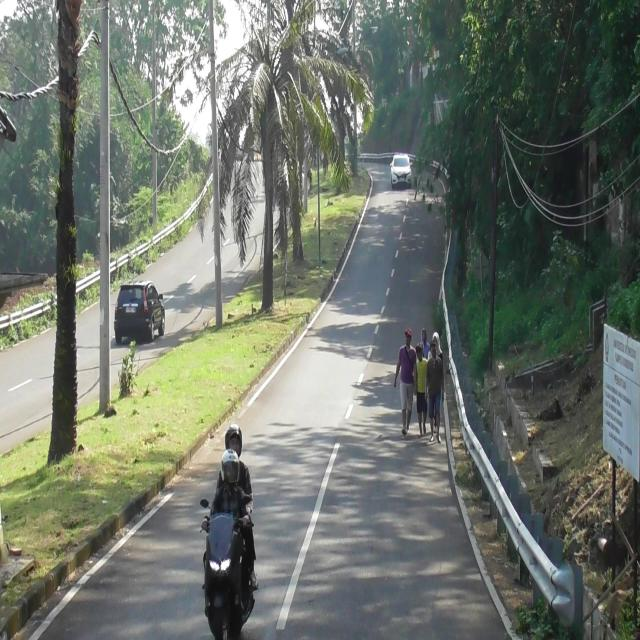motorcycle: (199, 496, 257, 640)
person: (216, 425, 253, 499), (212, 453, 250, 520)
rider_region: (198, 427, 260, 639)
